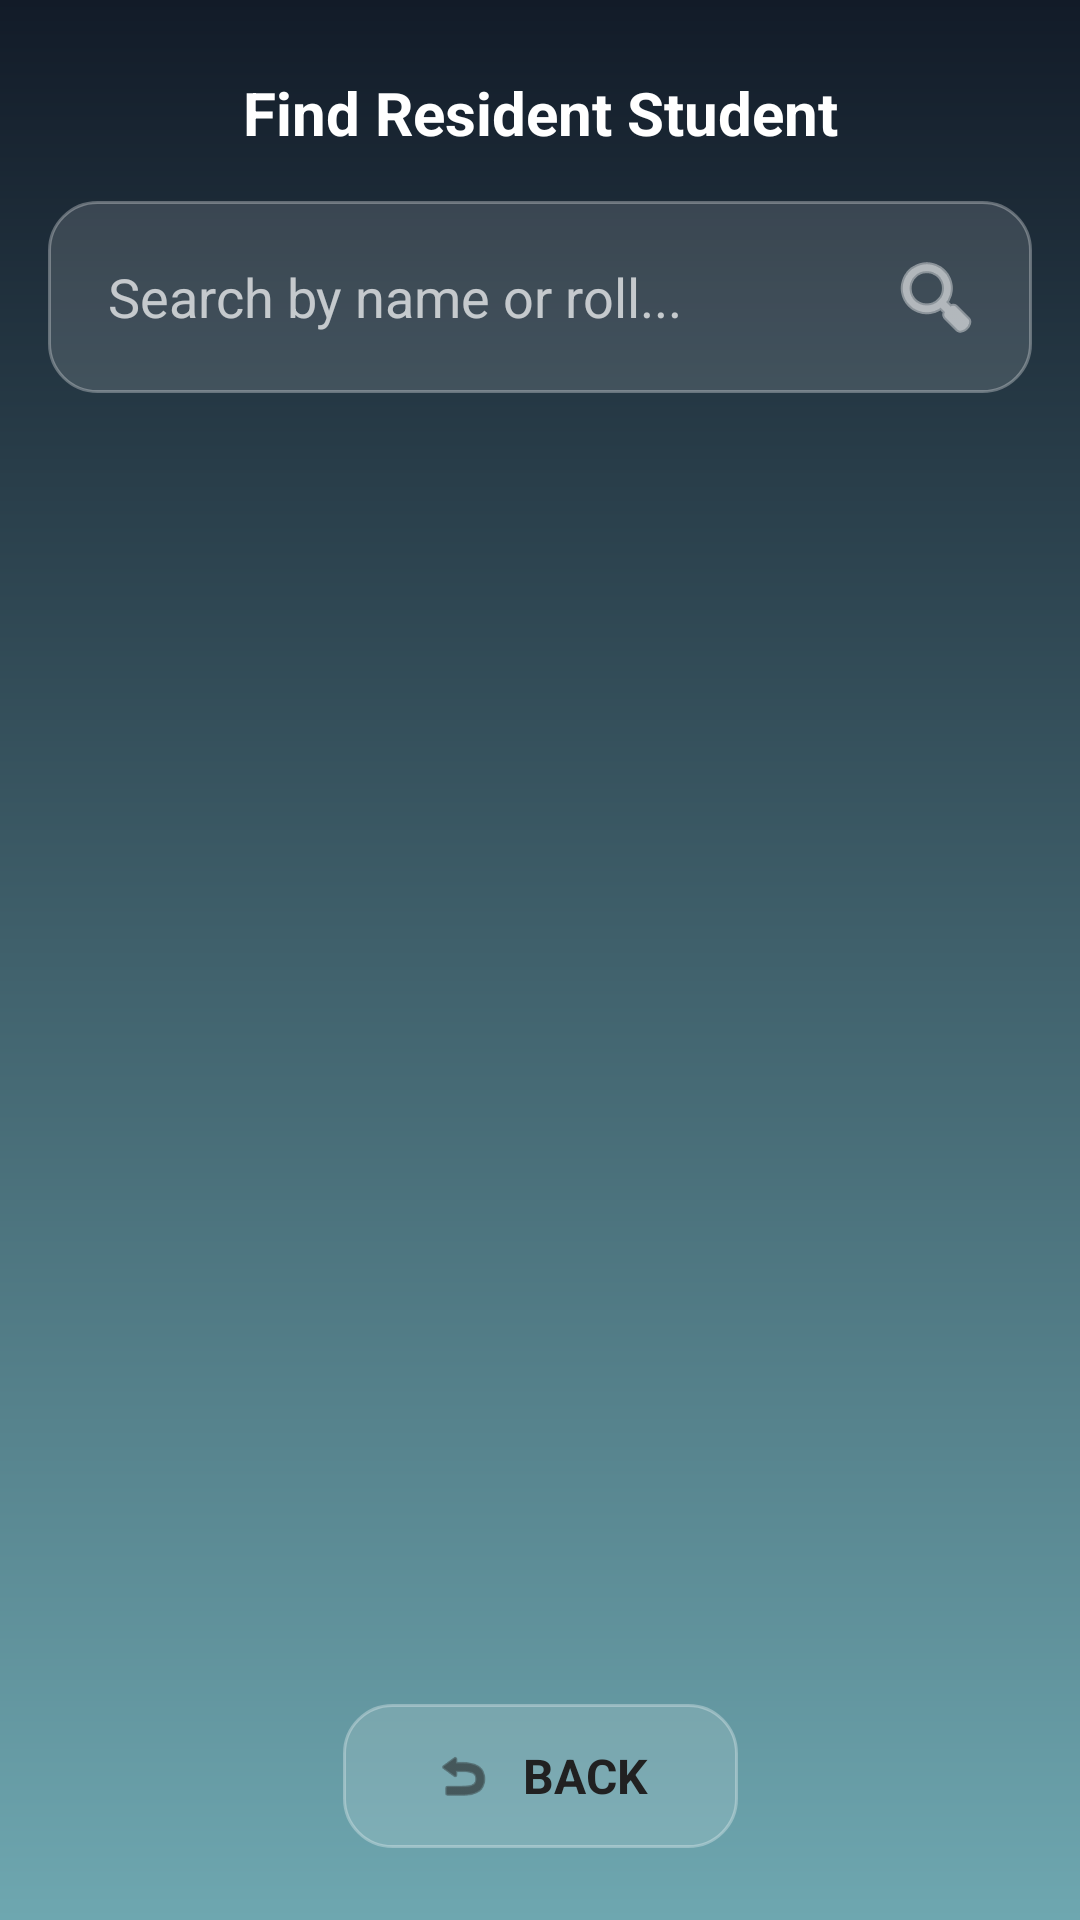

Screen size 1080w x 1920h. Icon name, then its box in pixels as (x1, y1, x2, y2):
revert: (442, 1757, 485, 1796)
